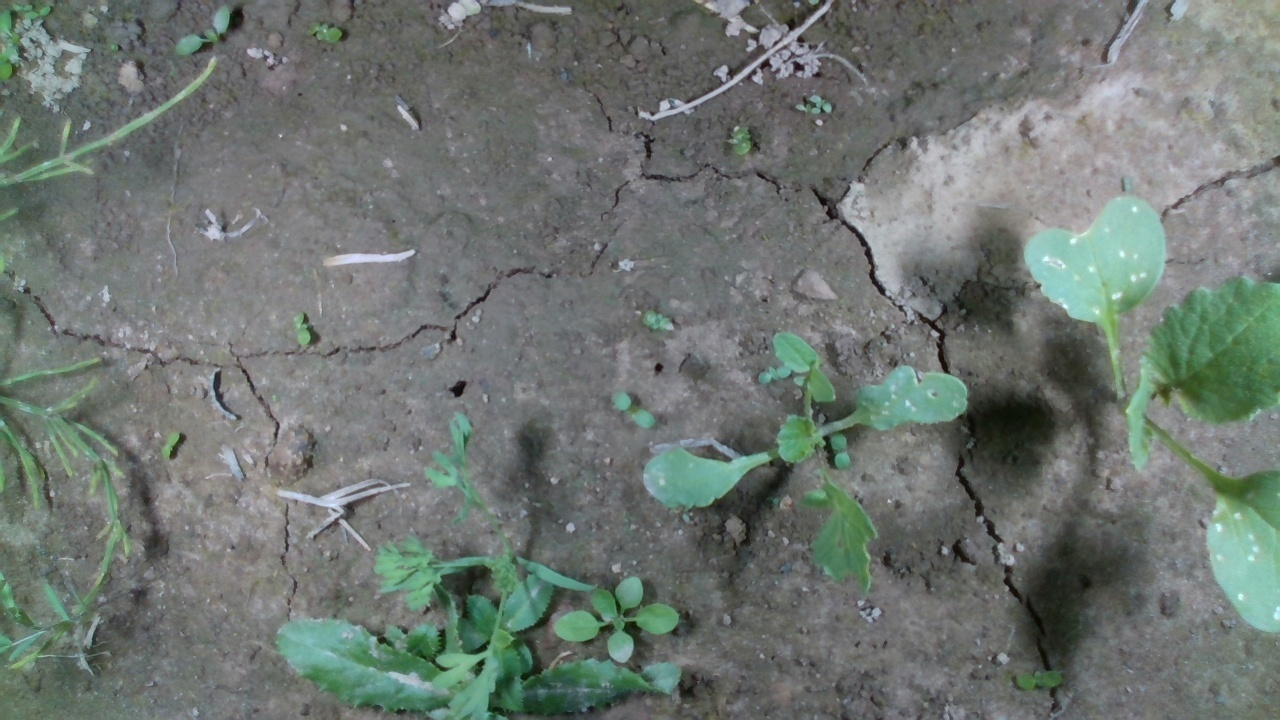weed: (173, 2, 230, 57), (608, 391, 657, 429), (1013, 666, 1064, 691), (304, 19, 345, 43), (641, 308, 676, 334), (730, 121, 752, 155), (291, 310, 311, 347), (160, 428, 180, 458)
